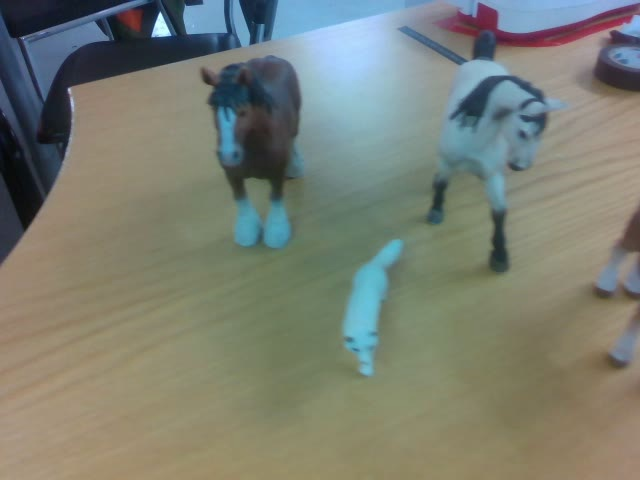toy: (429, 28, 564, 271), (199, 55, 302, 248), (342, 238, 404, 378)
